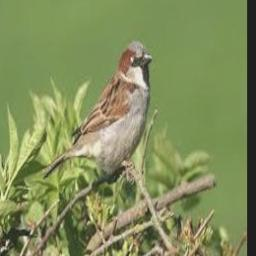Sparrow: (41, 41, 153, 181)
